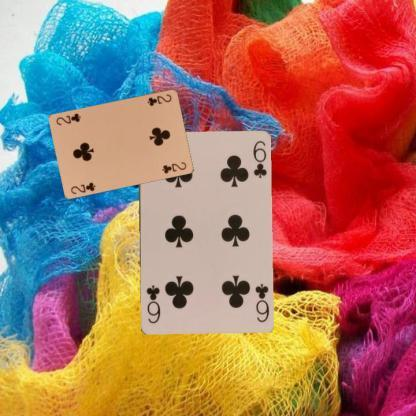2c: (68, 179, 97, 195), (145, 91, 173, 107)
6c: (252, 281, 270, 323)
